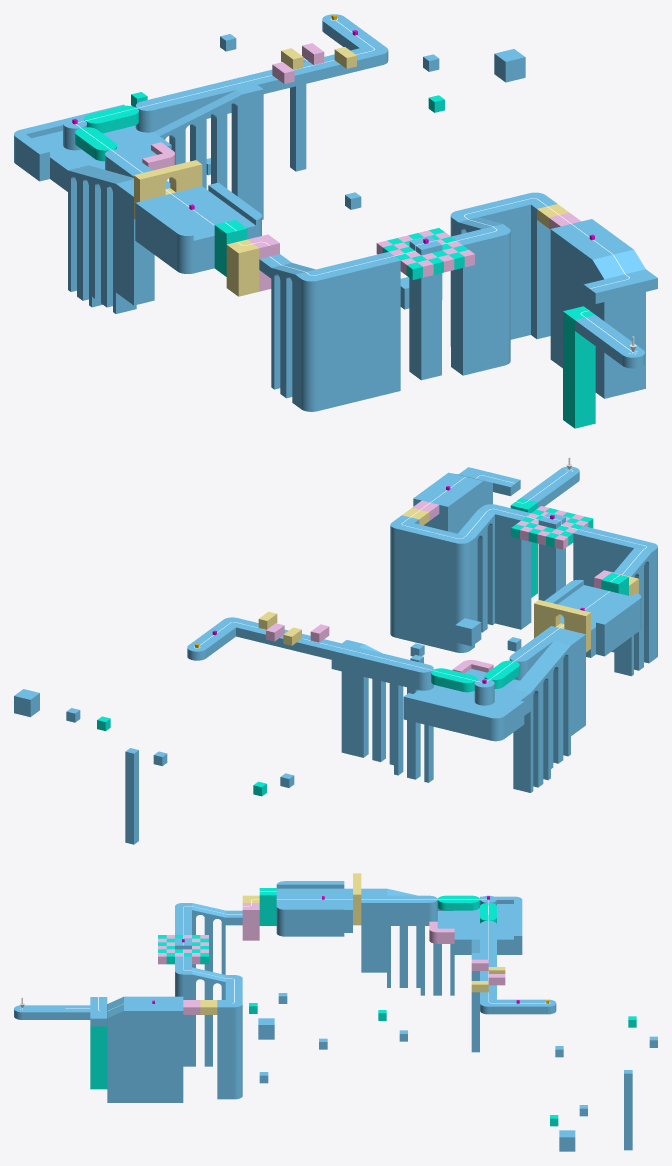
The model's file is level_platforms.glb.
The picture shows the model from 3 angles, top to bottom: view 1: azimuth 30°, elevation 25°; view 2: azimuth 150°, elevation 25°; view 3: azimuth 270°, elevation 25°; orthographic projection. The views are drawn at different scales.
Visible parts, largest first — view 1: block_4x4x1__14_, block_4x4x1__12_, block_4x4x1, block_4x4x1__13_, block_4x4x1__3_, block_1x1x1__1__1, block_4x4x1__17_, elevator_4, block_1x1x1_1, block_1x1x1__2__1, block_4x4x1__22_, block_4x4x1__1_ (+35 smaller); view 2: block_1x1x1__1__1, block_4x4x1__12_, block_4x4x1, block_4x4x1__14_, block_1x1x1__3_, block_1x1x1, arch_support__2__4, block_1x1x1__2_, block_4x4x1__13_, block_1x1x1__2__1, block_1x1x1_1, block_4x4x1__17_ (+29 smaller); view 3: block_4x4x1, block_4x4x1__22_, block_1x1x1__9_, block_4x4x1__18_, block_4x4x1__17_, block_4x4x1__3_, block_1x1x1_1, elevator_4, block_2x2x1__1_, block_4x4x1__7_, block_4x4x1__1_, block_1x1x1_corner_2 (+18 smaller).
Part boxes in pixels (x1,y1,x2,y2): block_4x4x1__14_: (316, 252, 400, 408); block_4x4x1__12_: (451, 229, 494, 375); block_4x4x1: (550, 219, 633, 368); block_4x4x1__13_: (409, 236, 442, 380); block_4x4x1__3_: (592, 271, 645, 398); block_1x1x1__1__1: (467, 196, 530, 339); block_4x4x1__17_: (140, 186, 255, 273); elevator_4: (563, 306, 595, 428); block_1x1x1_1: (116, 179, 154, 305); block_1x1x1__2__1: (237, 85, 263, 219); block_4x4x1__22_: (32, 125, 171, 191); block_4x4x1__1_: (531, 199, 557, 339); block_1x1x1__1__1: (404, 523, 457, 650); block_4x4x1__12_: (495, 507, 531, 629); block_4x4x1: (413, 472, 482, 533); block_4x4x1__14_: (573, 526, 643, 652); block_1x1x1__3_: (331, 643, 428, 689); block_1x1x1: (403, 693, 495, 740); arch_support__2__4: (513, 695, 540, 792); block_1x1x1__2_: (596, 597, 639, 656); block_4x4x1__13_: (538, 513, 565, 600); block_1x1x1__2__1: (341, 640, 363, 756); block_1x1x1_1: (554, 630, 585, 735); block_4x4x1__17_: (558, 585, 630, 657); block_4x4x1: (124, 996, 183, 1102); block_4x4x1__22_: (454, 904, 513, 954); block_1x1x1__9_: (285, 906, 344, 936); block_4x4x1__18_: (361, 895, 420, 925); block_4x4x1__17_: (276, 888, 352, 932); block_4x4x1__3_: (107, 1018, 123, 1102); block_1x1x1_1: (361, 888, 386, 972); elevator_4: (90, 1012, 107, 1089); block_2x2x1__1_: (22, 1005, 90, 1019); block_4x4x1__7_: (225, 1003, 234, 1099); block_4x4x1__1_: (217, 1000, 225, 1099); block_1x1x1_corner_2: (234, 1003, 242, 1099).
Bounding box in the file's own units: 52.2 × 20 × 76.
